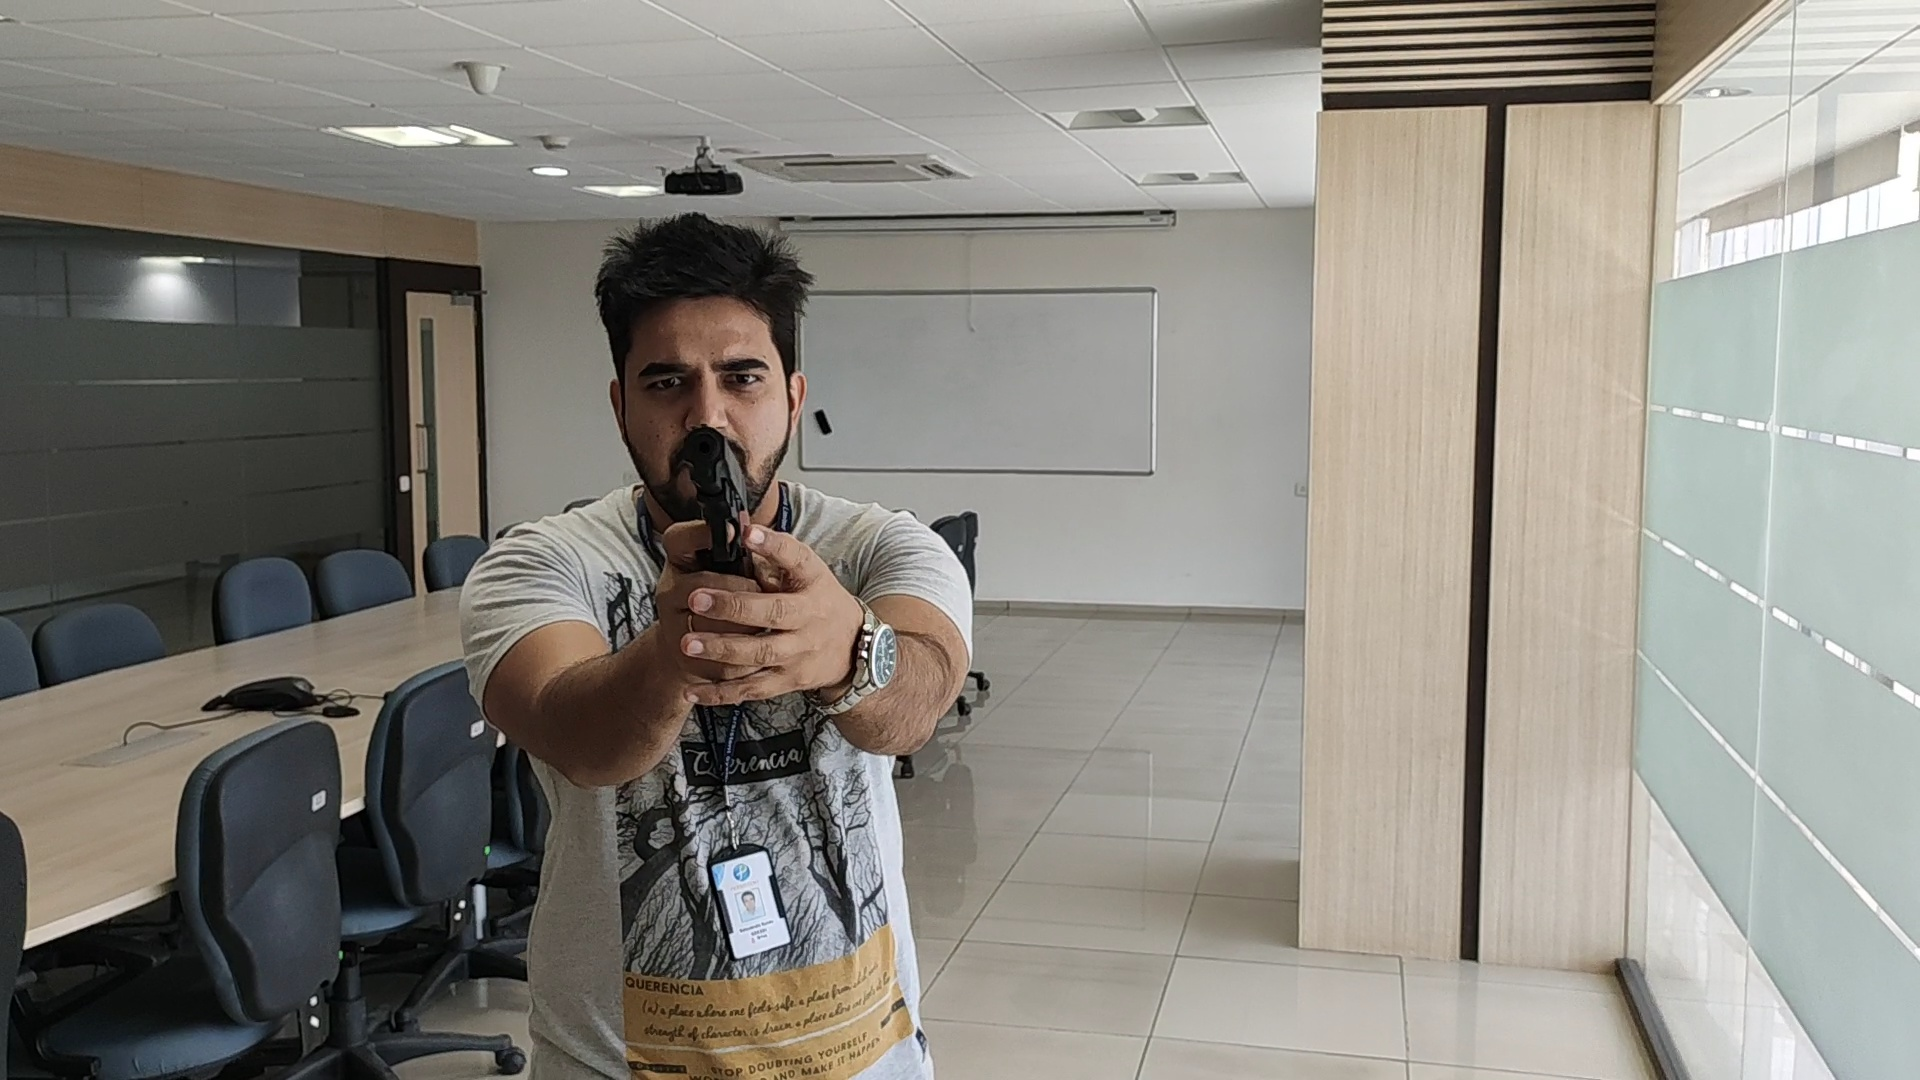gun: (684, 425, 746, 518)
